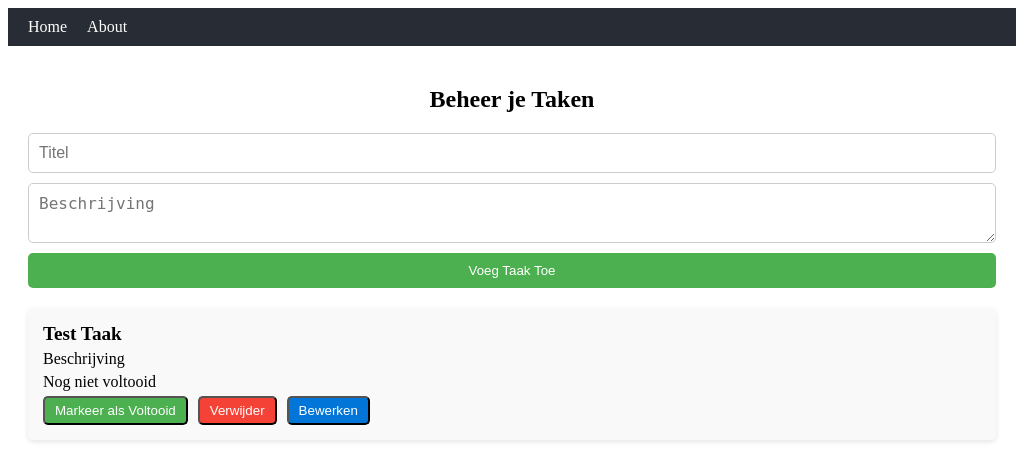
it: Task Manager - DELETE Task › should delete a task successfully
This screenshot has width=1024, height=460.
Note: Zoek de taak en klik op "Verwijder"
Click the button "Verwijder": (238, 411) [198, 396, 277, 425]
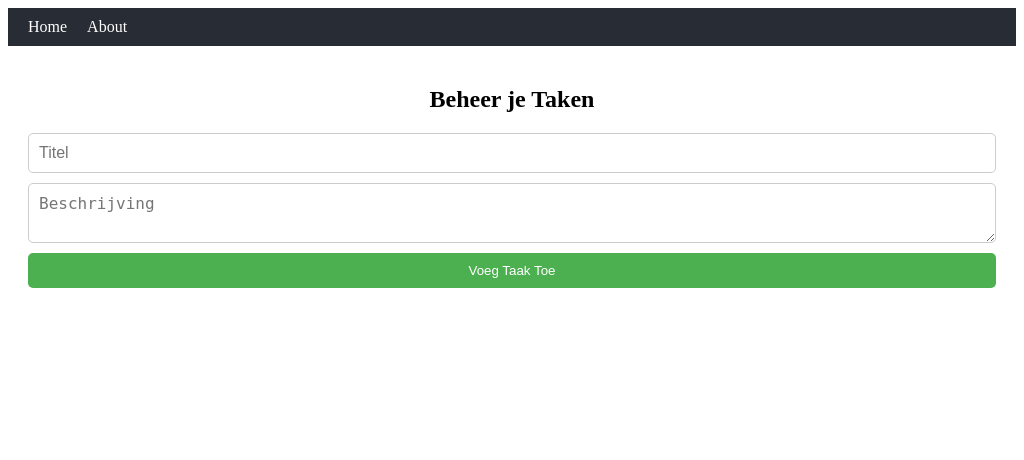
expect the heading "Test Taak" is gone: met
